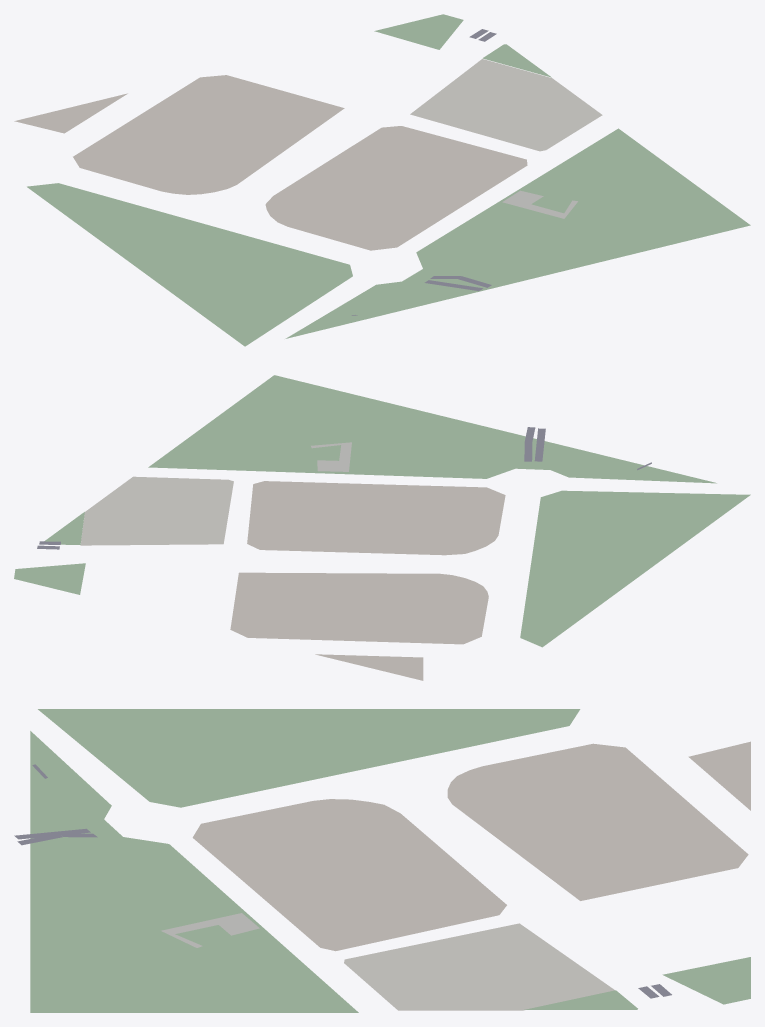
Rendered from 123_68_mid.glb.
3 views of the same model, one above another, from view 1: azimuth 30°, elevation 25°; view 2: azimuth 150°, elevation 25°; view 3: azimuth 270°, elevation 25° (orthographic). The views are drawn at different scales.
Bounding box in the file's own units: 500 × 9.74 × 511.
